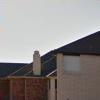Chimney: (29, 46, 47, 75)
